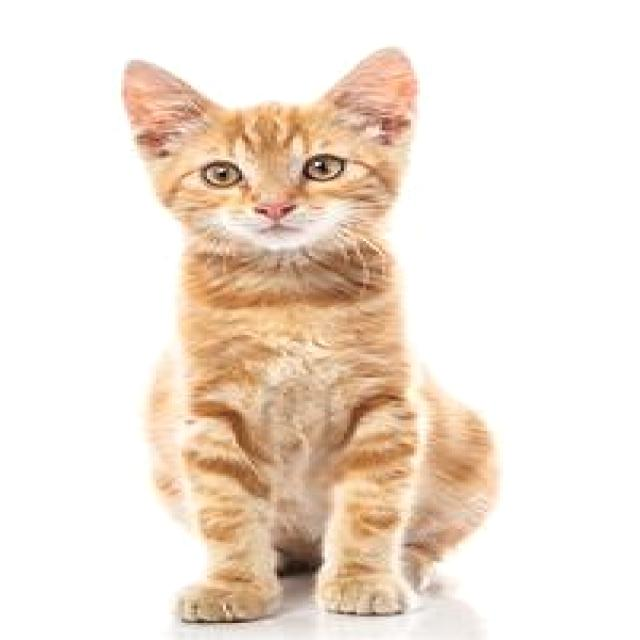KEDI: (105, 44, 511, 626)
